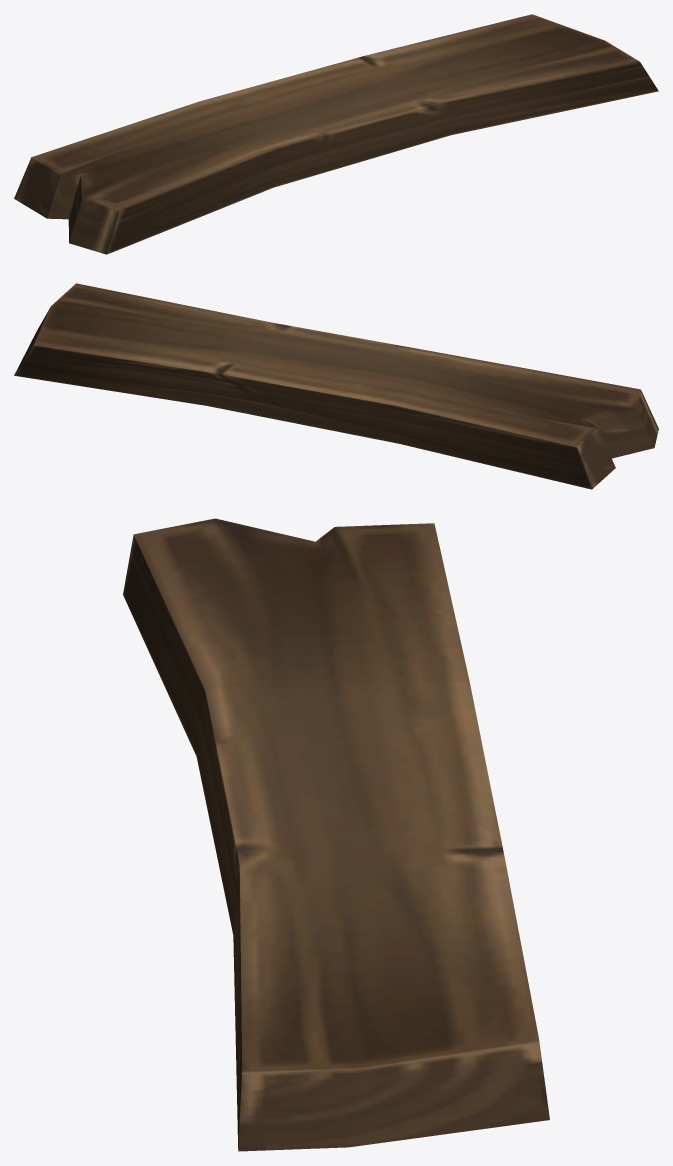
File: bandit_groundboard_03.fbx
The picture shows the model from 3 angles, top to bottom: view 1: azimuth 30°, elevation 25°; view 2: azimuth 150°, elevation 25°; view 3: azimuth 270°, elevation 25°; orthographic projection. The views are drawn at different scales.
Parts seen in each view (by area): view 1: obj0.537; view 2: obj0.537; view 3: obj0.537.
Boxes of the visible parts, bbox=[...] form: obj0.537: bbox=[14, 14, 658, 254]; obj0.537: bbox=[14, 283, 658, 489]; obj0.537: bbox=[123, 518, 549, 1151].
Bounding box in the file's own units: 2.56 × 0.1818 × 0.8079.
